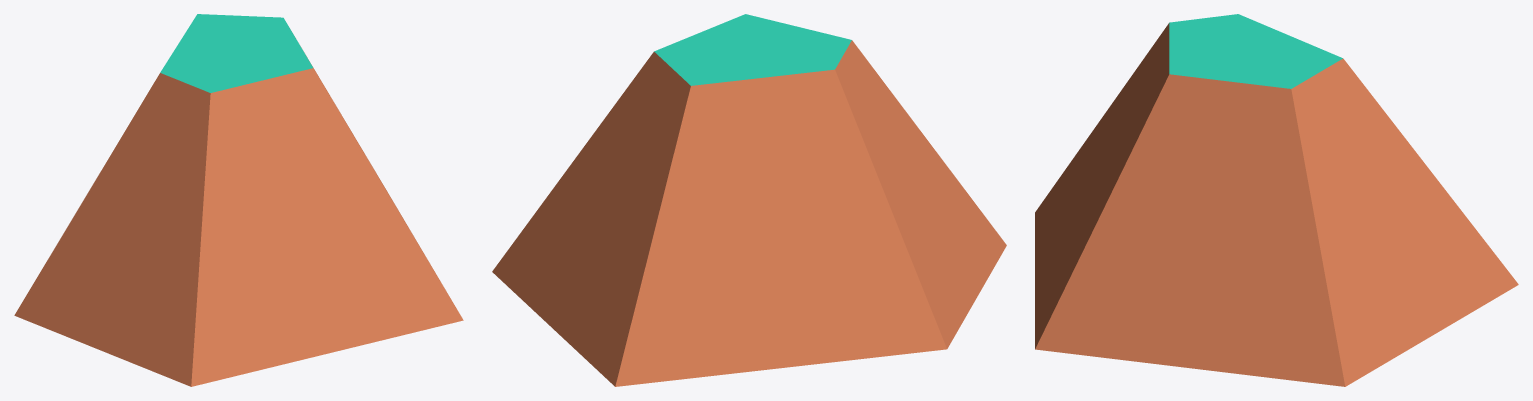
File: rock_smallA.obj
The picture shows the model from 3 angles, left to right: view 1: azimuth 30°, elevation 25°; view 2: azimuth 150°, elevation 25°; view 3: azimuth 270°, elevation 25°; orthographic projection. The views are drawn at different scales.
Visible parts, largest first — view 1: rock_smallA; view 2: rock_smallA; view 3: rock_smallA.
Part boxes in pixels (bbox=[...]): rock_smallA: bbox=[14, 14, 463, 386]; rock_smallA: bbox=[492, 14, 1006, 386]; rock_smallA: bbox=[1035, 14, 1518, 386].
Size of the model in its own units: 0.3608 by 0.1912 by 0.3608.
